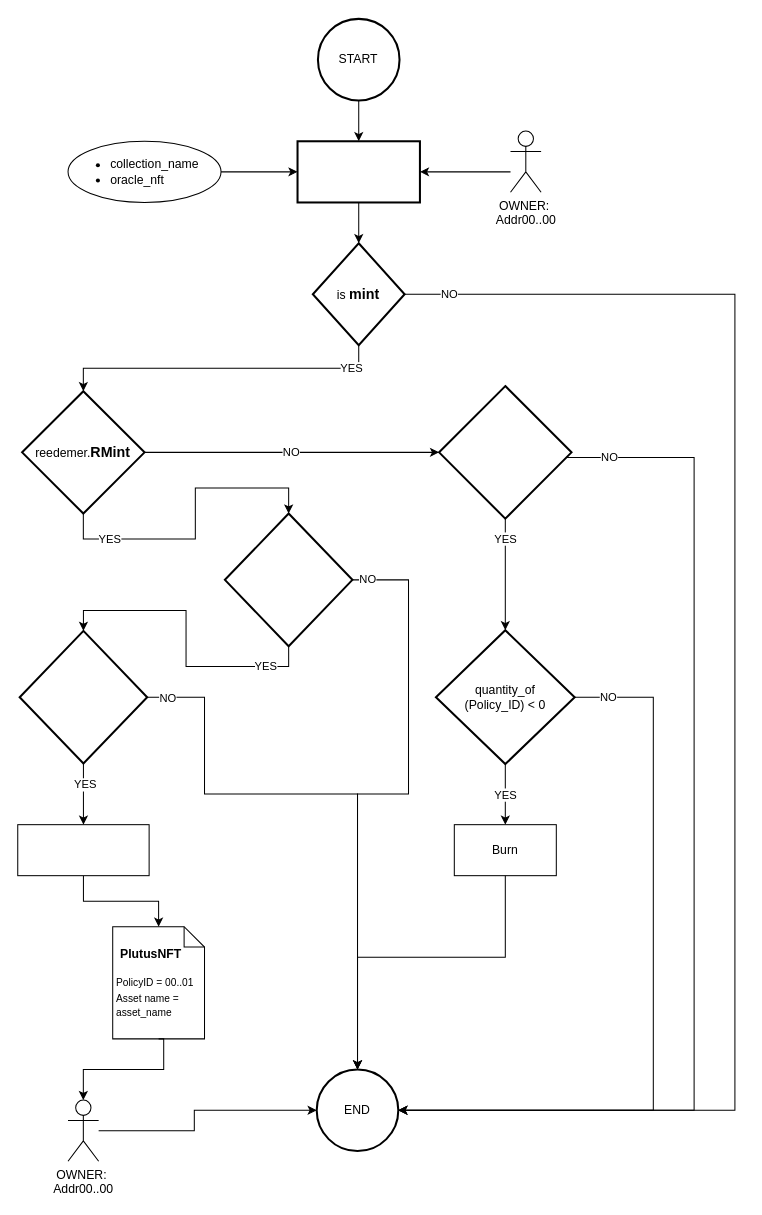
This 762x1215 diagram has some shape labels left out. The box of each missing label's shape, as (x1, y1, x2, y2) in pixels:
asset_name = colletcion_name + count: (17, 824, 149, 876)
Inputs has oracle_nft: (223, 512, 353, 647)
Mint PlutusNFT: (296, 140, 420, 203)
Output has only 1 plutus_nft: (18, 629, 148, 764)
reedemer. RBurn: (438, 385, 572, 519)
